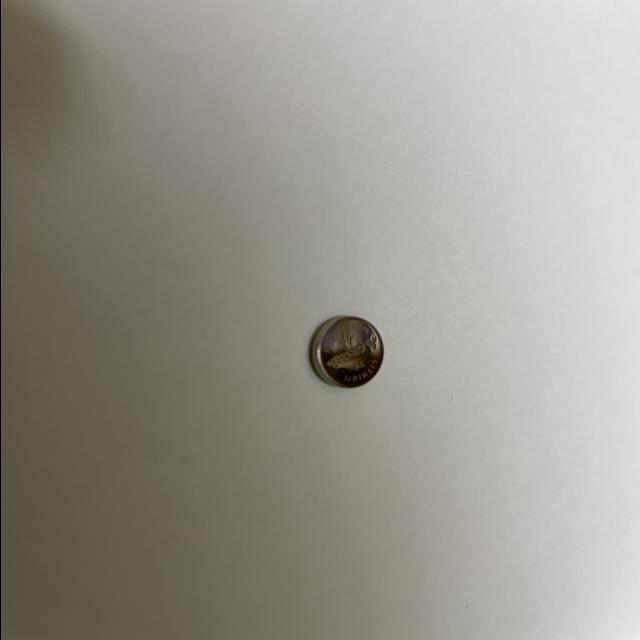COIN: (306, 314, 384, 388)
